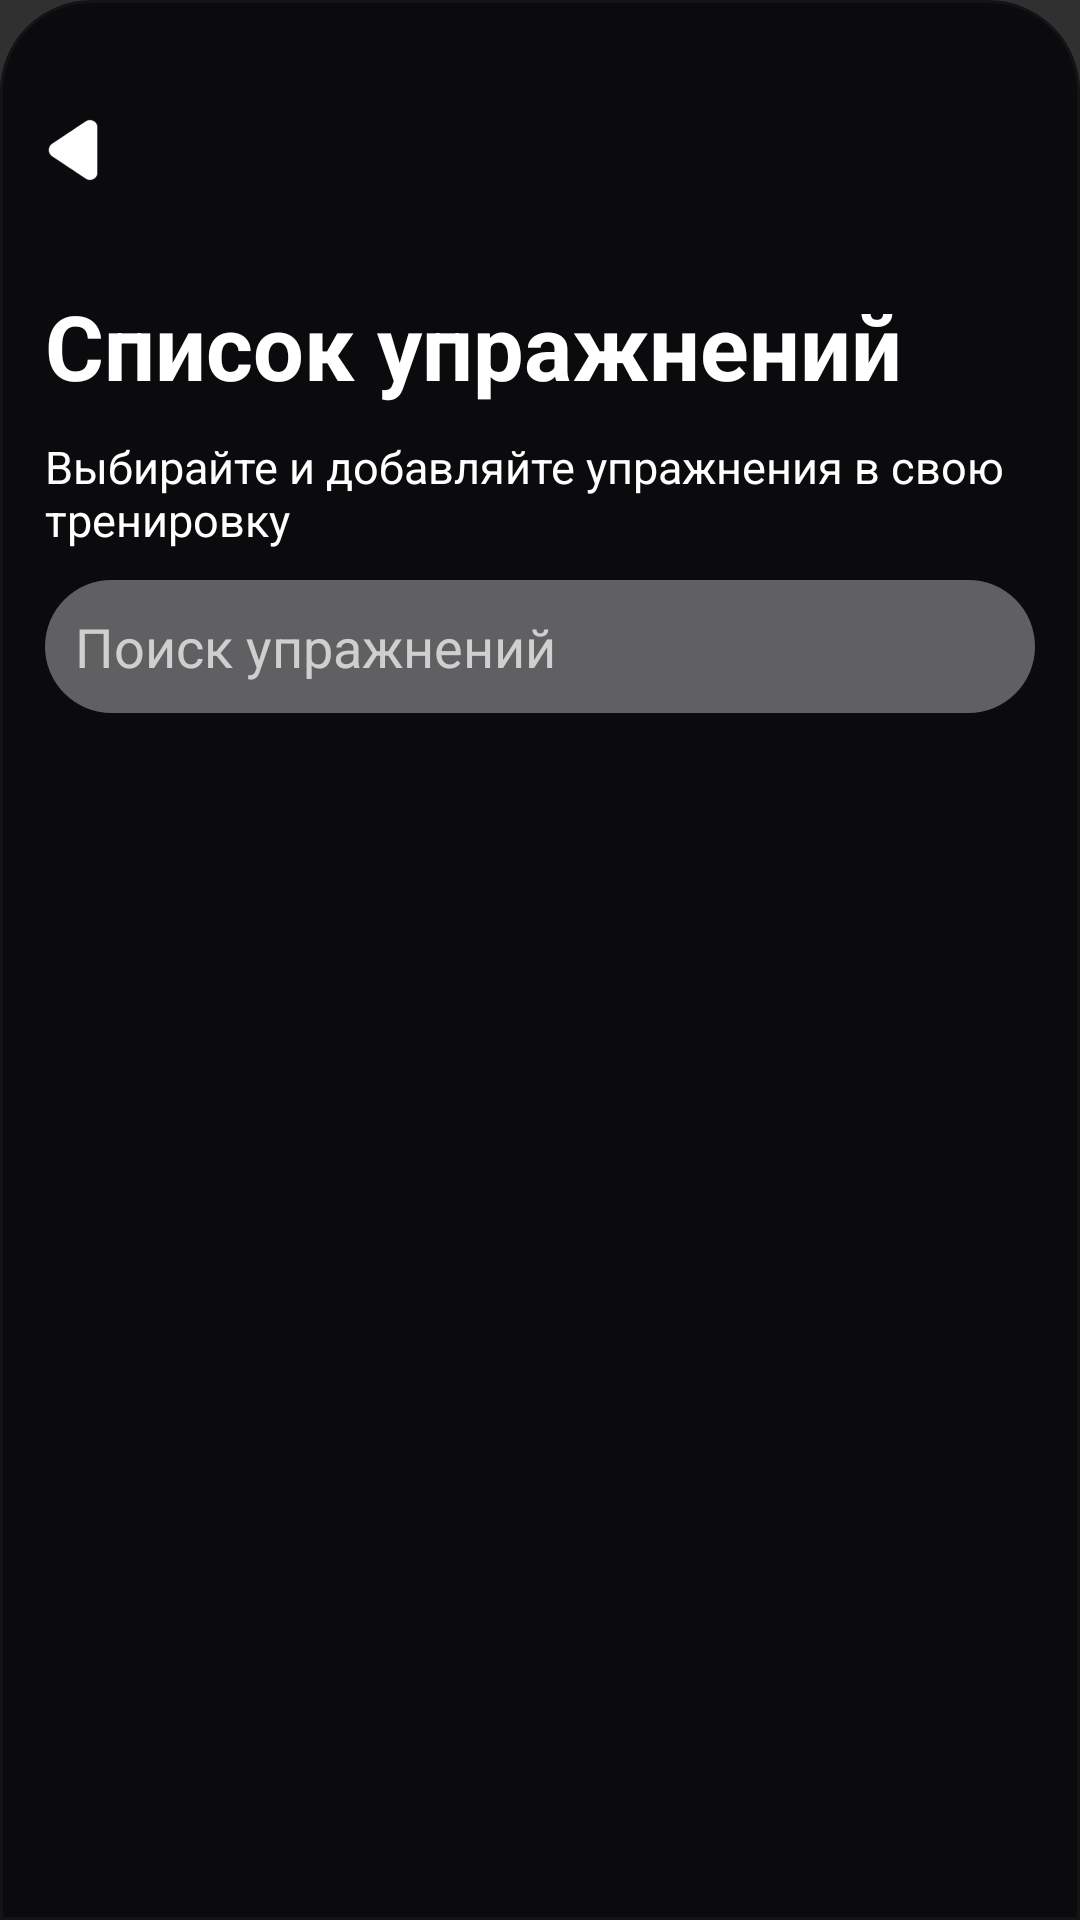

Icons on this 1080*1920 Android screen, each with its box as (x1, y1, x2, y2):
back: (48, 120, 98, 180)
